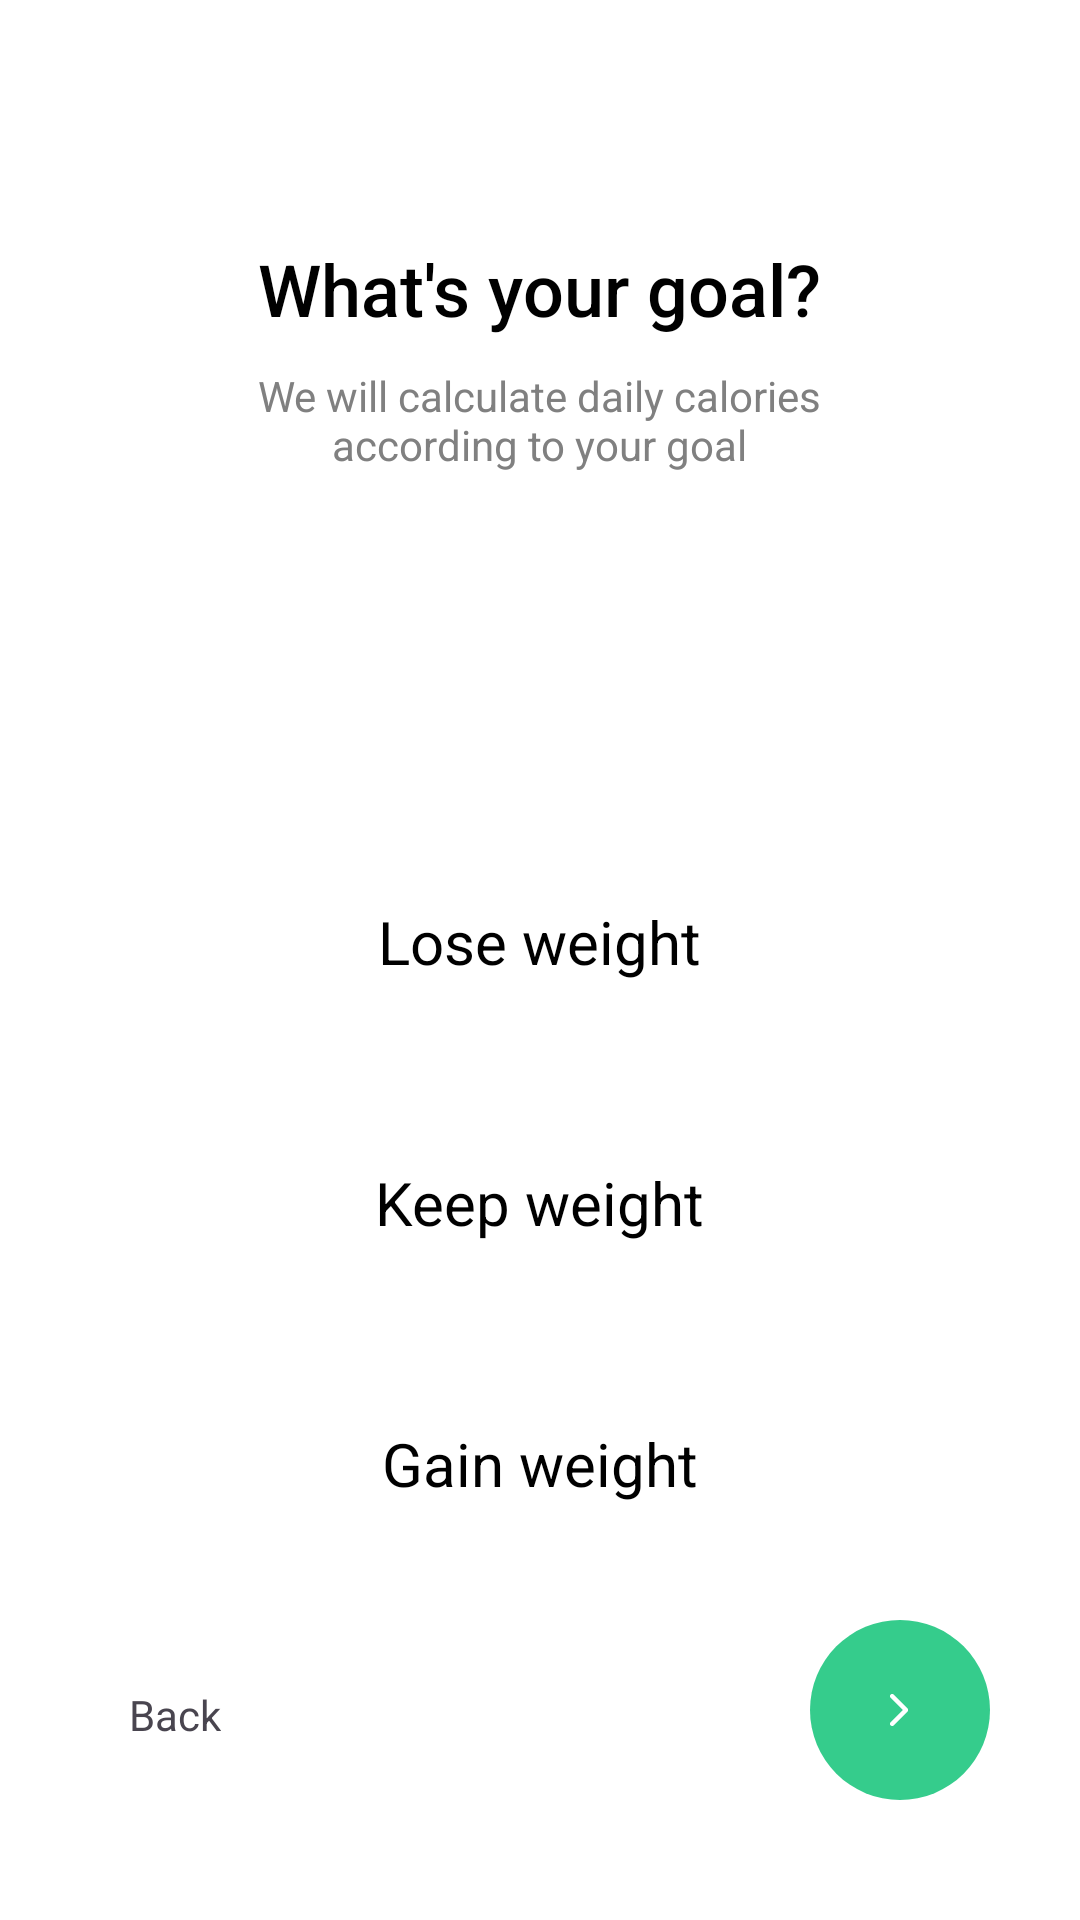

Locate icon controls on the screen. Image size 1080*1920, boxes as (x1, y1, x2, y2).
next arrow: (810, 1620, 990, 1800)
